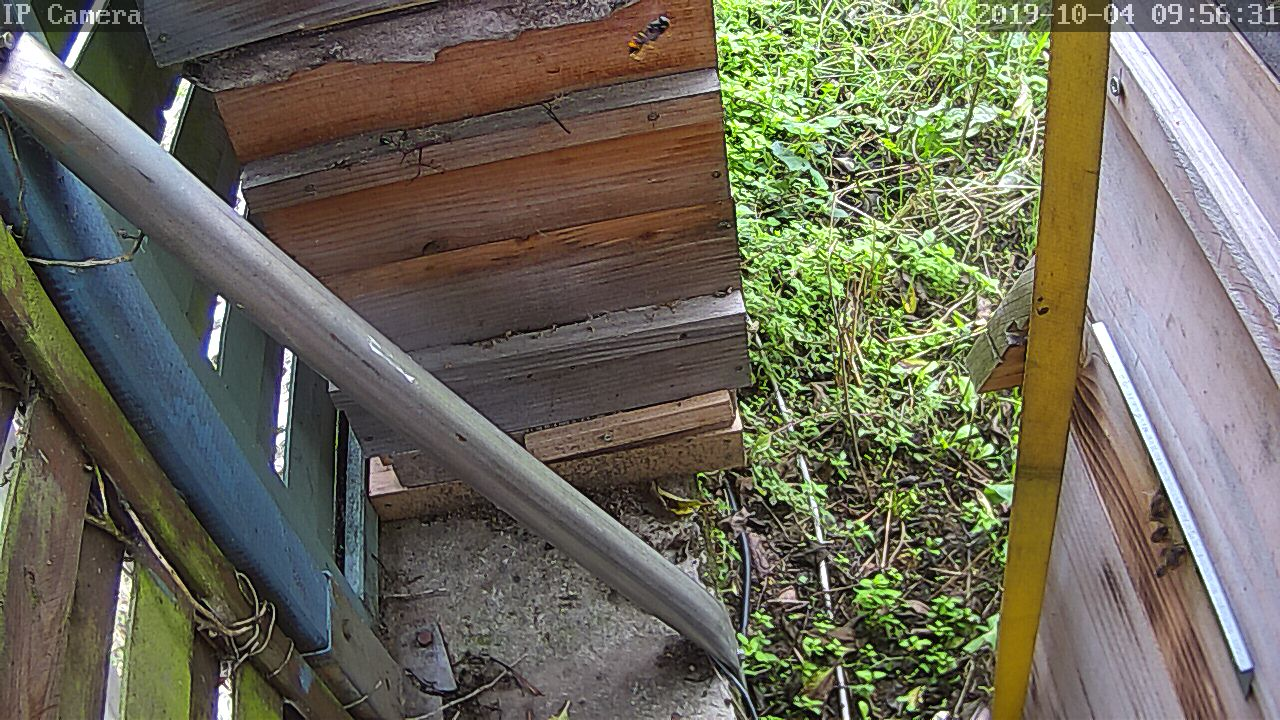bee: (1134, 491, 1176, 546), (1144, 533, 1191, 578)
hornet: (609, 474, 678, 525), (996, 324, 1024, 366)
